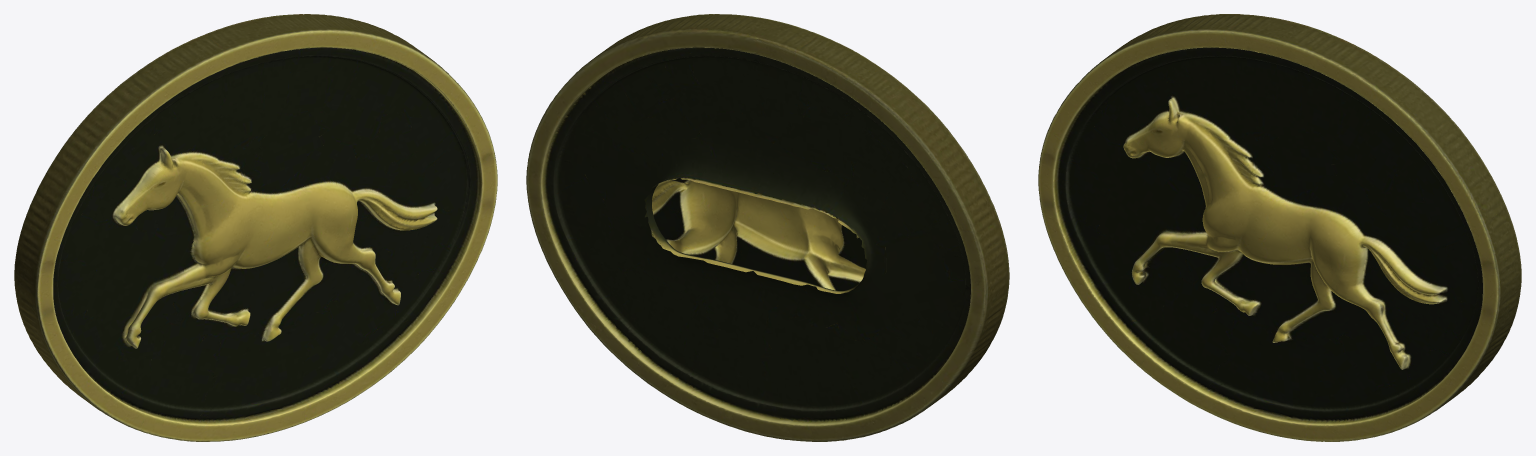
The model's file is hero-coin.glb.
The picture shows the model from 3 angles, left to right: view 1: azimuth 30°, elevation 25°; view 2: azimuth 150°, elevation 25°; view 3: azimuth 330°, elevation 25°; orthographic projection.
Parts seen in each view (by area): view 1: Meshy_AI_Global_Stablecoin_Sta_1017201713_texture.007; view 2: Meshy_AI_Global_Stablecoin_Sta_1017201713_texture.007; view 3: Meshy_AI_Global_Stablecoin_Sta_1017201713_texture.007.
Part boxes in pixels (x1,y1,x2,y2): Meshy_AI_Global_Stablecoin_Sta_1017201713_texture.007: [14, 14, 497, 441]; Meshy_AI_Global_Stablecoin_Sta_1017201713_texture.007: [526, 14, 1009, 441]; Meshy_AI_Global_Stablecoin_Sta_1017201713_texture.007: [1038, 14, 1521, 441].
Bounding box in the file's own units: 1.66 × 1.36 × 0.1939.
Materials: 1 (1 with a texture image).
